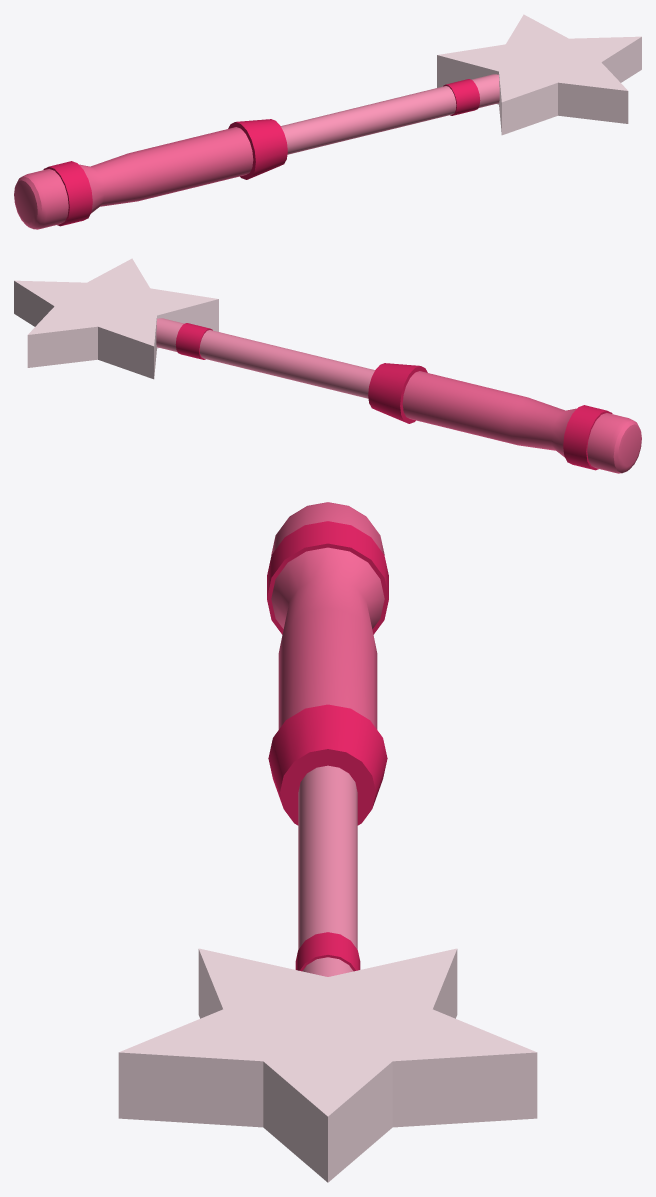
Rendered from Star_Stick.fbx.
3 views of the same model, one above another, from view 1: azimuth 30°, elevation 25°; view 2: azimuth 150°, elevation 25°; view 3: azimuth 270°, elevation 25° (orthographic). The views are drawn at different scales.
Parts seen in each view (by area): view 1: Star_Stick; view 2: Star_Stick; view 3: Star_Stick.
Part boxes in pixels (x1,y1,x2,y2): Star_Stick: (14, 14, 641, 229); Star_Stick: (14, 258, 641, 473); Star_Stick: (118, 502, 537, 1182).
Size of the model in its own units: 33.56 by 2.88 by 9.87.
1 material, 1 textured.
